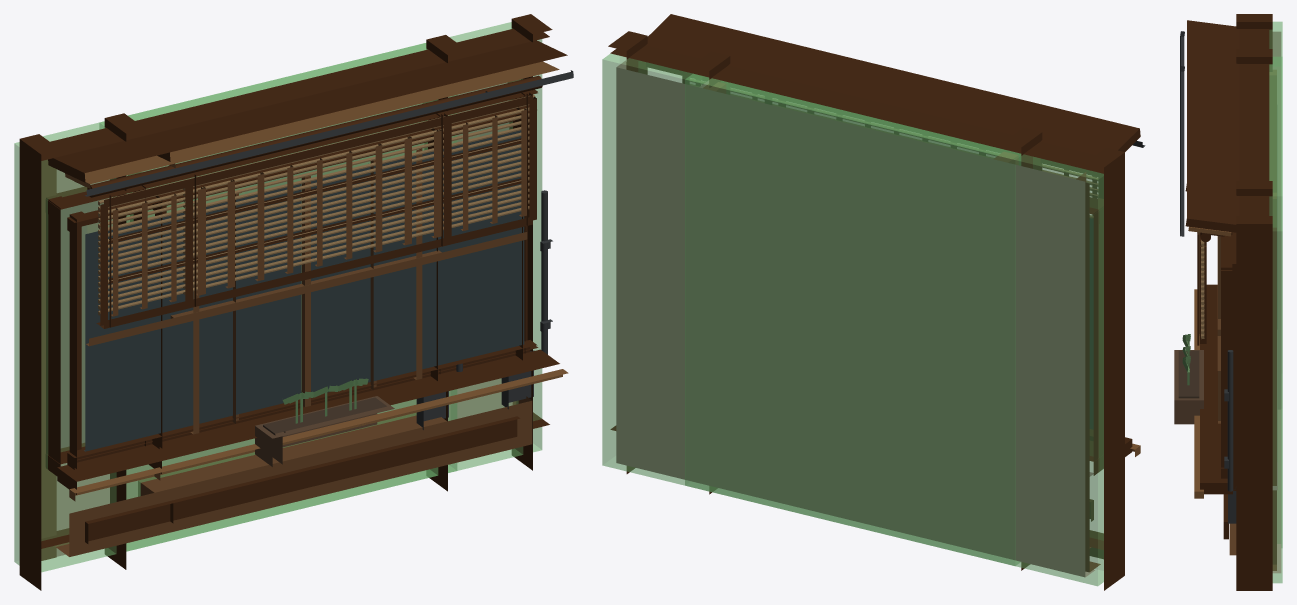
File: ProjectShinrai_WindowBay_v6_Modular.glb
The picture shows the model from 3 angles, left to right: view 1: azimuth 30°, elevation 25°; view 2: azimuth 150°, elevation 25°; view 3: azimuth 270°, elevation 25°; orthographic projection. The views are drawn at different scales.
Visible parts, largest first — view 1: WindowBay_3m_Base, WindowBay_2m_Base, COL_WindowBay_3m, WindowBay_3m_Blind, WindowBay_3m_Screen, WindowBay_2m_Blind, WindowBay_2m_Screen, COL_WindowBay_2m, WindowBay_3m_Planter, WindowBay_2m_Planter, WindowBay_3m_Utility; view 2: COL_WindowBay_3m, COL_WindowBay_2m, WindowBay_2m_Base, WindowBay_3m_Base; view 3: WindowBay_3m_Base, WindowBay_2m_Base, COL_WindowBay_3m, COL_WindowBay_2m, WindowBay_3m_Planter, WindowBay_3m_Utility, WindowBay_2m_Planter, WindowBay_3m_Blind, WindowBay_3m_Screen.
Part boxes in pixels (<box>): WindowBay_3m_Base: <box>19,14,573,590</box>; WindowBay_2m_Base: <box>104,35,488,569</box>; COL_WindowBay_3m: <box>14,22,542,571</box>; WindowBay_3m_Blind: <box>87,75,542,327</box>; WindowBay_3m_Screen: <box>96,92,536,328</box>; WindowBay_2m_Blind: <box>176,96,457,306</box>; WindowBay_2m_Screen: <box>185,113,451,308</box>; COL_WindowBay_2m: <box>99,43,457,551</box>; WindowBay_3m_Planter: <box>255,378,394,466</box>; WindowBay_2m_Planter: <box>265,380,384,464</box>; WindowBay_3m_Utility: <box>501,190,552,409</box>; COL_WindowBay_3m: <box>602,53,1103,586</box>; COL_WindowBay_2m: <box>685,74,1021,565</box>; WindowBay_2m_Base: <box>690,34,1056,570</box>; WindowBay_3m_Base: <box>608,14,1145,590</box>; WindowBay_3m_Base: <box>1180,14,1281,590</box>; WindowBay_2m_Base: <box>1180,49,1280,454</box>; COL_WindowBay_3m: <box>1269,21,1282,583</box>; COL_WindowBay_2m: <box>1269,56,1282,547</box>; WindowBay_3m_Planter: <box>1174,334,1203,424</box>; WindowBay_3m_Utility: <box>1224,350,1236,523</box>; WindowBay_2m_Planter: <box>1174,336,1203,395</box>; WindowBay_3m_Blind: <box>1197,232,1210,345</box>; WindowBay_3m_Screen: <box>1198,232,1206,348</box>.
Size of the model in its own units: 3.01 by 2.45 by 0.655.
